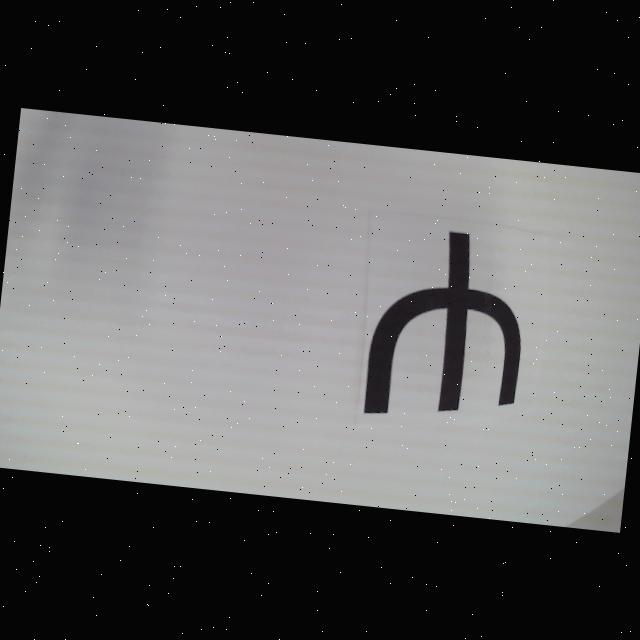PSI: (362, 222, 532, 428)
